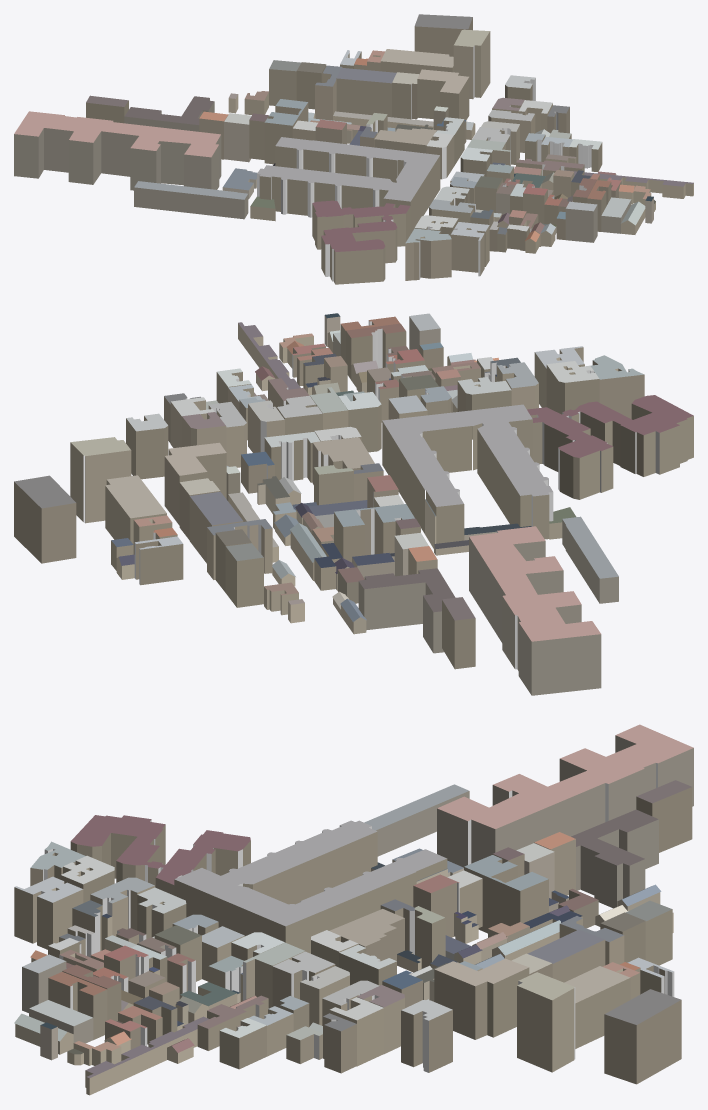
3 renders of one model, top to bottom at view 1: azimuth 30°, elevation 25°; view 2: azimuth 150°, elevation 25°; view 3: azimuth 270°, elevation 25°, orthographic. The views are drawn at different scales.
Parts seen in each view (by area): view 1: tuile; view 2: tuile; view 3: tuile.
Boxes of the visible parts, bbox=[...] form: tuile: bbox=[14, 14, 693, 284]; tuile: bbox=[14, 313, 693, 695]; tuile: bbox=[14, 724, 693, 1095].
Size of the model in its own units: 305 by 36.16 by 270.
